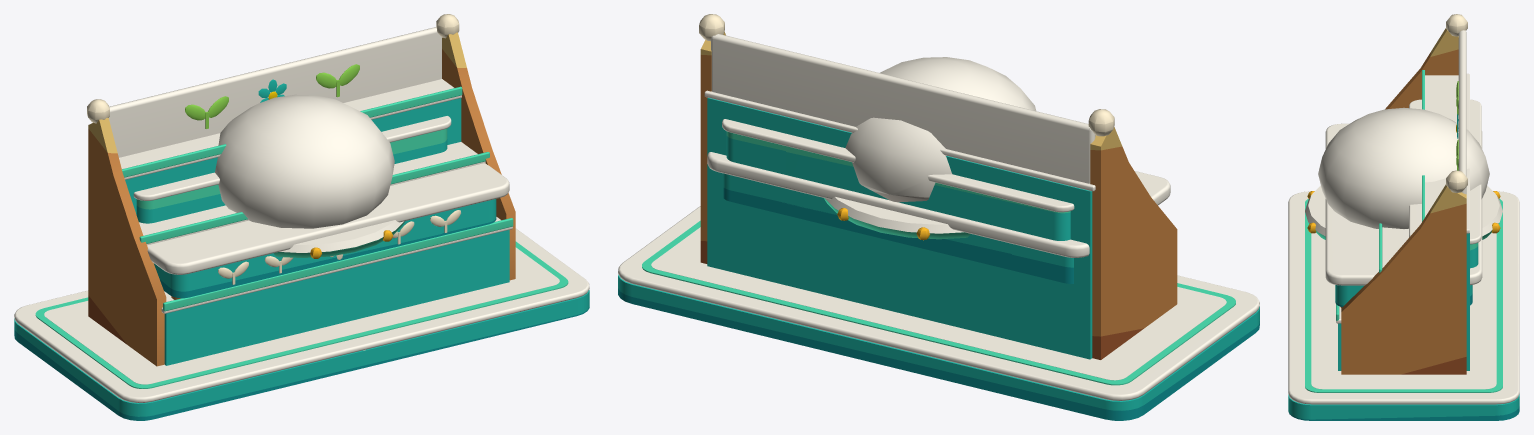
The model's file is shop_display_kit.glb.
The picture shows the model from 3 angles, left to right: view 1: azimuth 30°, elevation 25°; view 2: azimuth 150°, elevation 25°; view 3: azimuth 270°, elevation 25°; orthographic projection. The views are drawn at different scales.
Visible parts, largest first — view 1: SD_Rack, SD_Stage, SD_Table_M, SD_Head, SD_Table_S, SD_Round; view 2: SD_Rack, SD_Stage, SD_Table_M, SD_Head, SD_Table_S, SD_Round; view 3: SD_Stage, SD_Rack, SD_Head, SD_Table_M, SD_Table_S, SD_Round.
Boxes of the visible parts, <box> form: SD_Rack: <box>87,14,515,366</box>; SD_Stage: <box>14,228,589,420</box>; SD_Table_M: <box>133,116,509,299</box>; SD_Head: <box>215,94,394,228</box>; SD_Table_S: <box>196,127,458,285</box>; SD_Round: <box>273,220,404,258</box>; SD_Rack: <box>699,14,1177,359</box>; SD_Stage: <box>618,206,1259,420</box>; SD_Table_M: <box>707,119,1170,283</box>; SD_Head: <box>845,57,1036,202</box>; SD_Table_S: <box>770,131,1019,270</box>; SD_Round: <box>824,196,970,240</box>; SD_Stage: <box>1288,191,1519,420</box>; SD_Rack: <box>1336,14,1469,374</box>; SD_Head: <box>1318,107,1489,228</box>; SD_Table_M: <box>1325,99,1482,307</box>; SD_Table_S: <box>1325,122,1482,253</box>; SD_Round: <box>1305,185,1502,239</box>.
Size of the model in its own units: 3 by 1.49 by 1.4.
